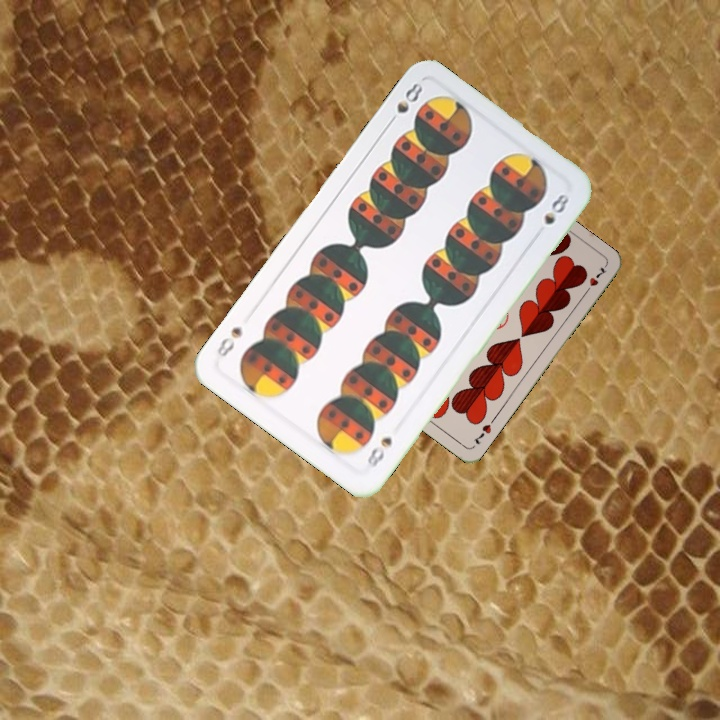H7: (469, 414, 498, 447)
S8: (383, 78, 426, 129), (362, 432, 395, 472)
